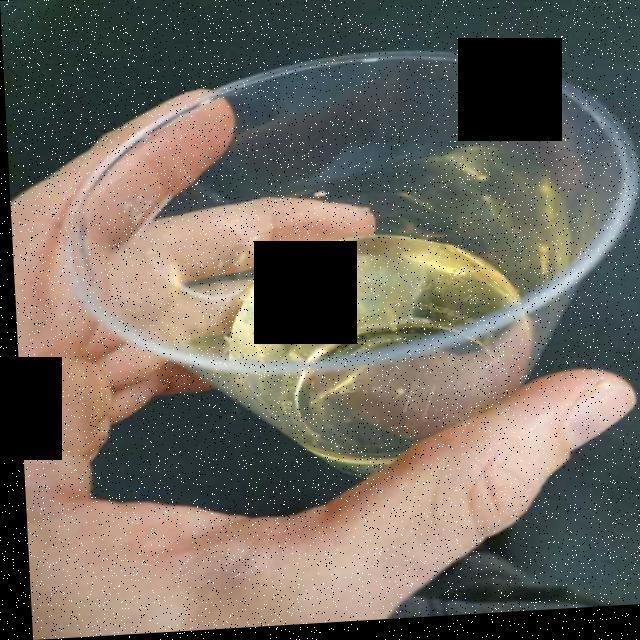wine: (224, 260, 576, 471)
